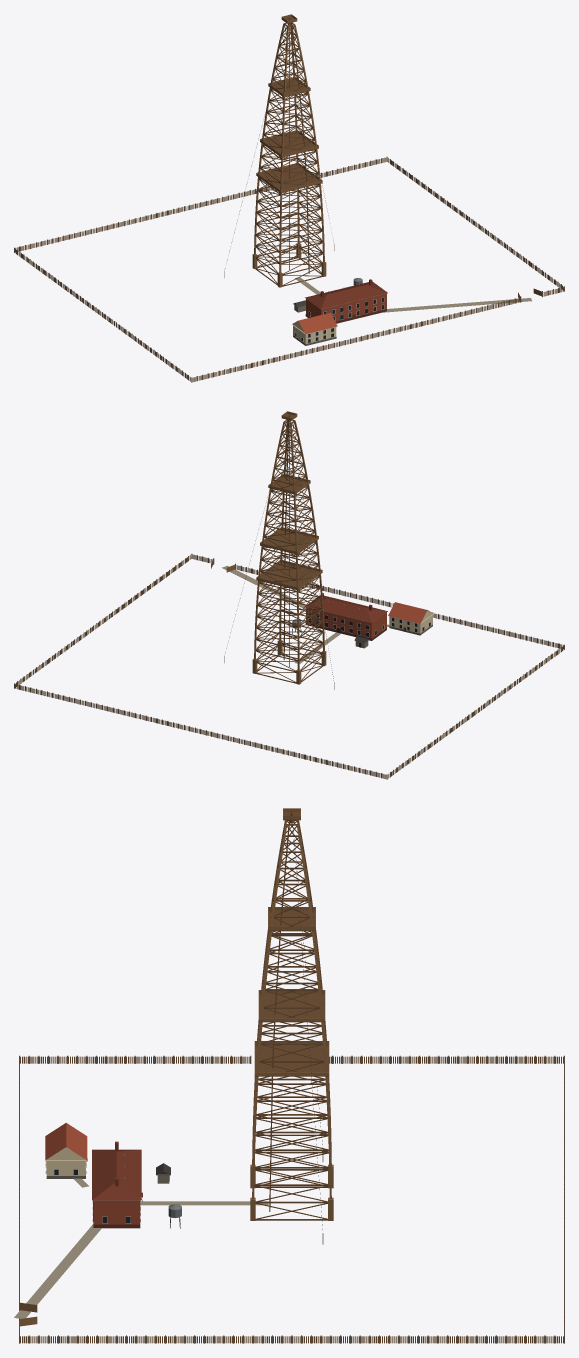
File: Radiostacja.fbx
3 renders of one model, top to bottom at view 1: azimuth 30°, elevation 25°; view 2: azimuth 150°, elevation 25°; view 3: azimuth 270°, elevation 25°, orthographic. The views are drawn at different scales.
Parts seen in each view (by area): view 1: Wieza_Radiostacji, Radio_Budynek_Nadajnika, Radio_Plot_Poludnie, Radio_Plot_Polnoc, Radio_Dom_Obslugi, Radio_Plot_Wschod, Radio_Zwir, Radio_Plot_Zachod_Polnoc; view 2: Wieza_Radiostacji, Radio_Budynek_Nadajnika, Radio_Plot_Polnoc, Radio_Plot_Poludnie, Radio_Dom_Obslugi, Radio_Plot_Wschod, Radio_Plot_Zachod_Polnoc, Radio_Zwir; view 3: Wieza_Radiostacji, Radio_Budynek_Nadajnika, Radio_Plot_Wschod, Radio_Dom_Obslugi, Radio_Zwir, Radio_Plot_Zachod_Polnoc, Radio_Plot_Zachod_Poludnie.
Boxes of the visible parts, x1=… form: Wieza_Radiostacji: x1=254, y1=14, x2=324, y2=286; Radio_Budynek_Nadajnika: x1=305, y1=279, x2=387, y2=323; Radio_Plot_Poludnie: x1=191, y1=298, x2=520, y2=382; Radio_Plot_Polnoc: x1=14, y1=156, x2=387, y2=252; Radio_Dom_Obslugi: x1=292, y1=312, x2=337, y2=345; Radio_Plot_Wschod: x1=387, y1=157, x2=564, y2=290; Radio_Zwir: x1=295, y1=277, x2=531, y2=312; Radio_Plot_Zachod_Polnoc: x1=14, y1=247, x2=115, y2=326; Wieza_Radiostacji: x1=254, y1=411, x2=324, y2=683; Radio_Budynek_Nadajnika: x1=305, y1=593, x2=387, y2=640; Radio_Plot_Polnoc: x1=14, y1=683, x2=387, y2=779; Radio_Plot_Poludnie: x1=236, y1=565, x2=564, y2=649; Radio_Dom_Obslugi: x1=388, y1=602, x2=433, y2=635; Radio_Plot_Wschod: x1=14, y1=553, x2=191, y2=687; Radio_Plot_Zachod_Polnoc: x1=386, y1=700, x2=488, y2=779; Radio_Zwir: x1=222, y1=565, x2=389, y2=663; Wieza_Radiostacji: x1=252, y1=808, x2=331, y2=1220; Radio_Budynek_Nadajnika: x1=92, y1=1141, x2=142, y2=1228; Radio_Plot_Wschod: x1=19, y1=1335, x2=564, y2=1343; Radio_Dom_Obslugi: x1=45, y1=1123, x2=87, y2=1178; Radio_Zwir: x1=14, y1=1178, x2=268, y2=1318; Radio_Plot_Zachod_Polnoc: x1=329, y1=1055, x2=563, y2=1063; Radio_Plot_Zachod_Poludnie: x1=19, y1=1055, x2=251, y2=1063.
Bounding box in the file's own units: 170 × 111 × 142.
